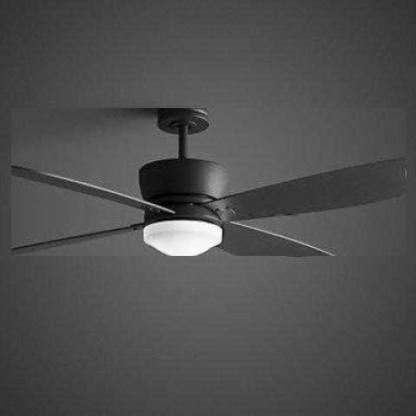ceiling-fan: (12, 108, 406, 257)
